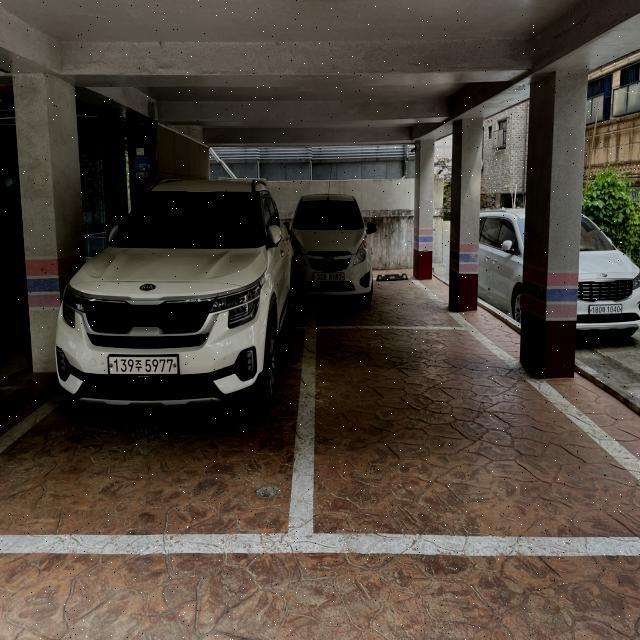empty: (285, 330, 636, 544)
occupied: (35, 164, 298, 440)
